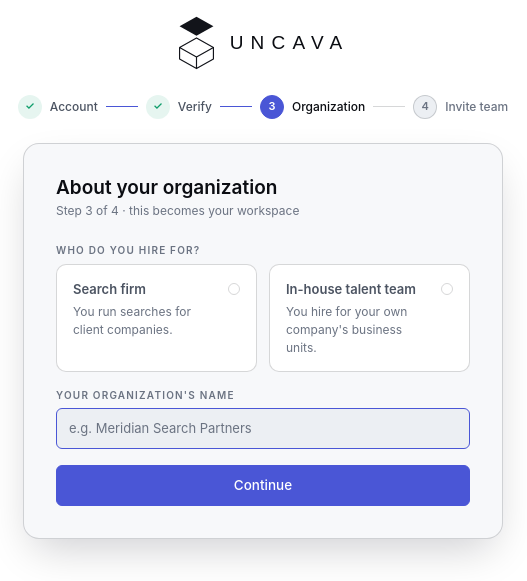
Test: WorkspaceStepPage — the firm types its own name, and a market match is optional › names the field by who the firm hires for
Expected: the text "Your organization's name" is shown, [56,388,235,402]
Click the radio button labelled "Search firm You run searches for client companies.". click: (156, 318)
box: [56,264,257,372]
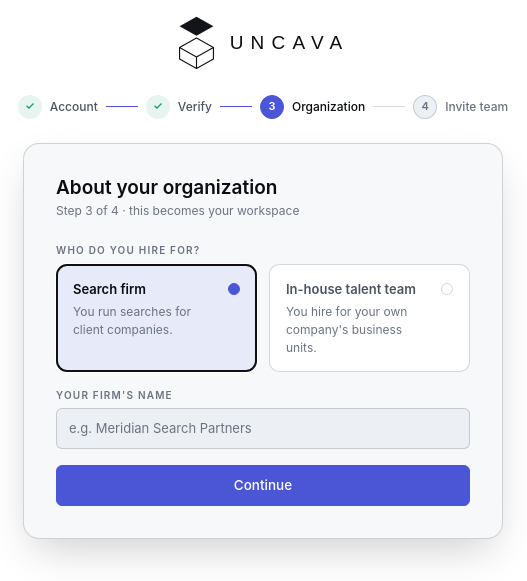
Now the text "Your firm's name" is shown, box [56,388,173,402]
Click the radio button labelled "In-house talent team". click: (370, 318)
box: [269,264,470,372]
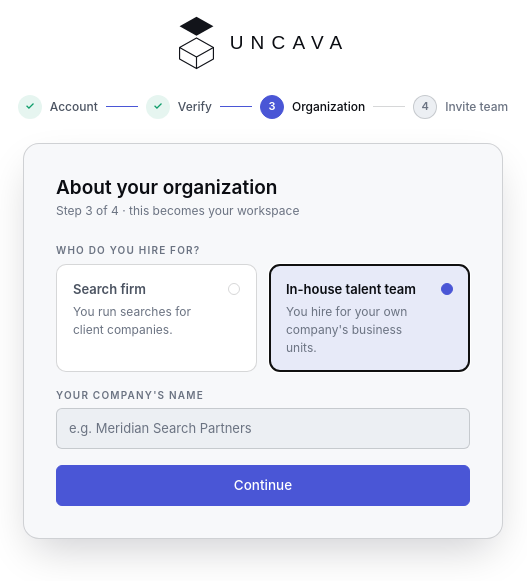
Now the text "Your company's name" is shown, box [56,388,204,402]
